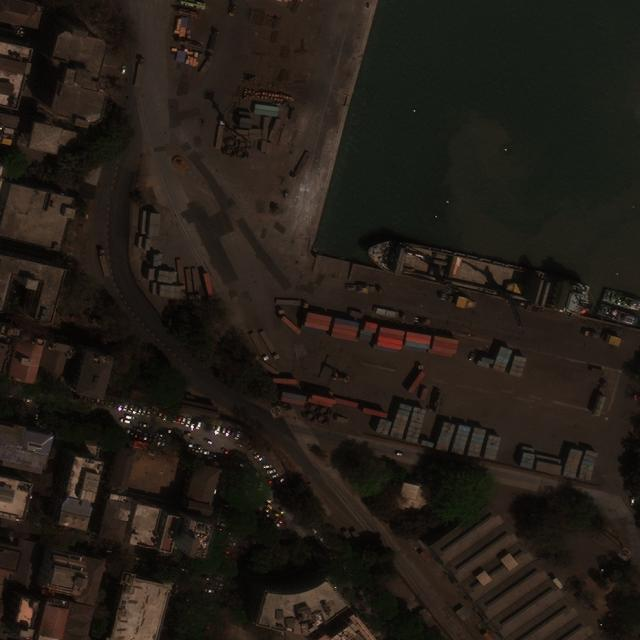Container Ship: (363, 233, 553, 307)
Other Ship: (594, 303, 640, 328), (601, 289, 640, 312)
